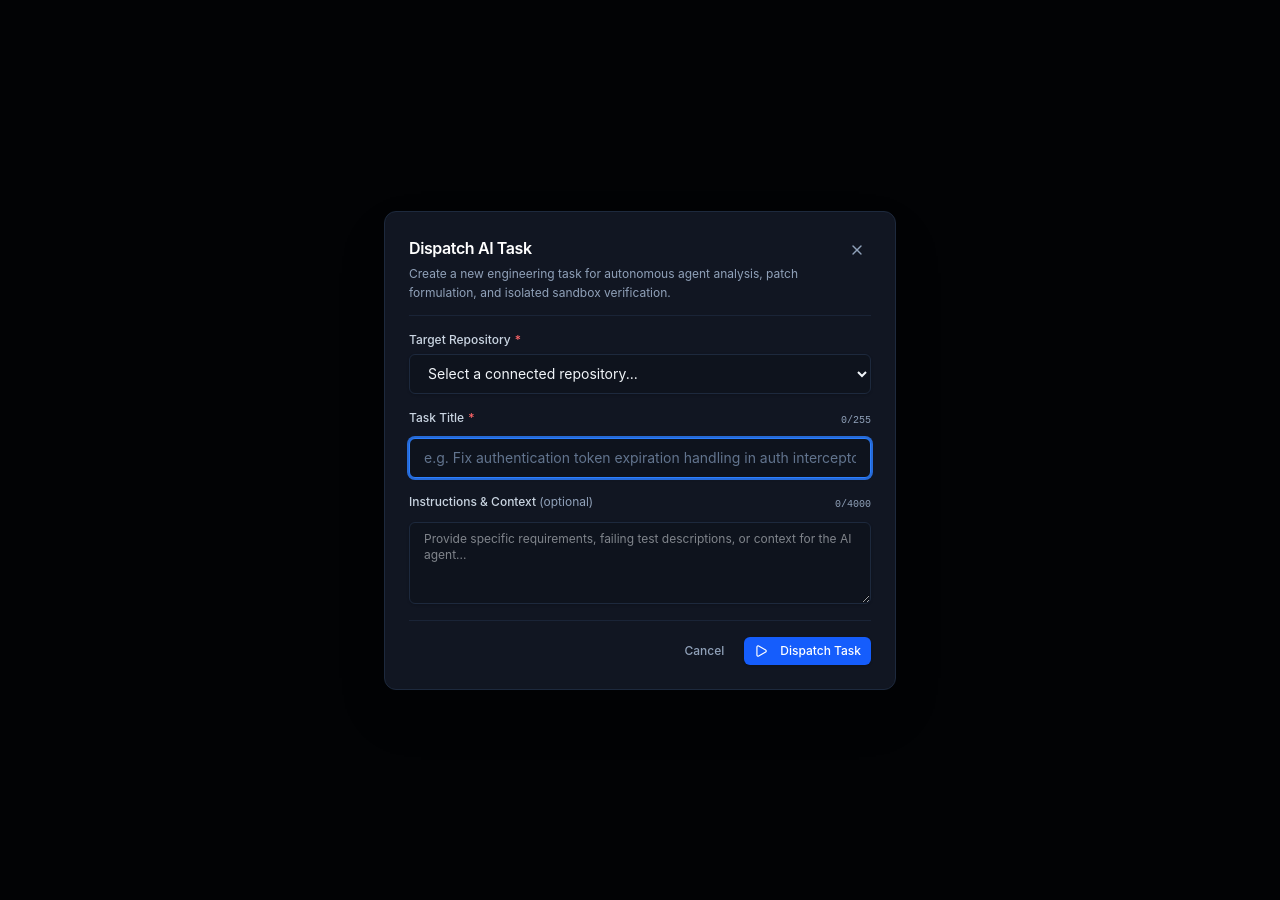
Scenario: CreateTaskDialog › handles 403 permission denied from backend
Select "org/repo-one (main)" in the dropdown labelled "Target Repository*". click: (640, 374)
box: [409, 354, 871, 394]
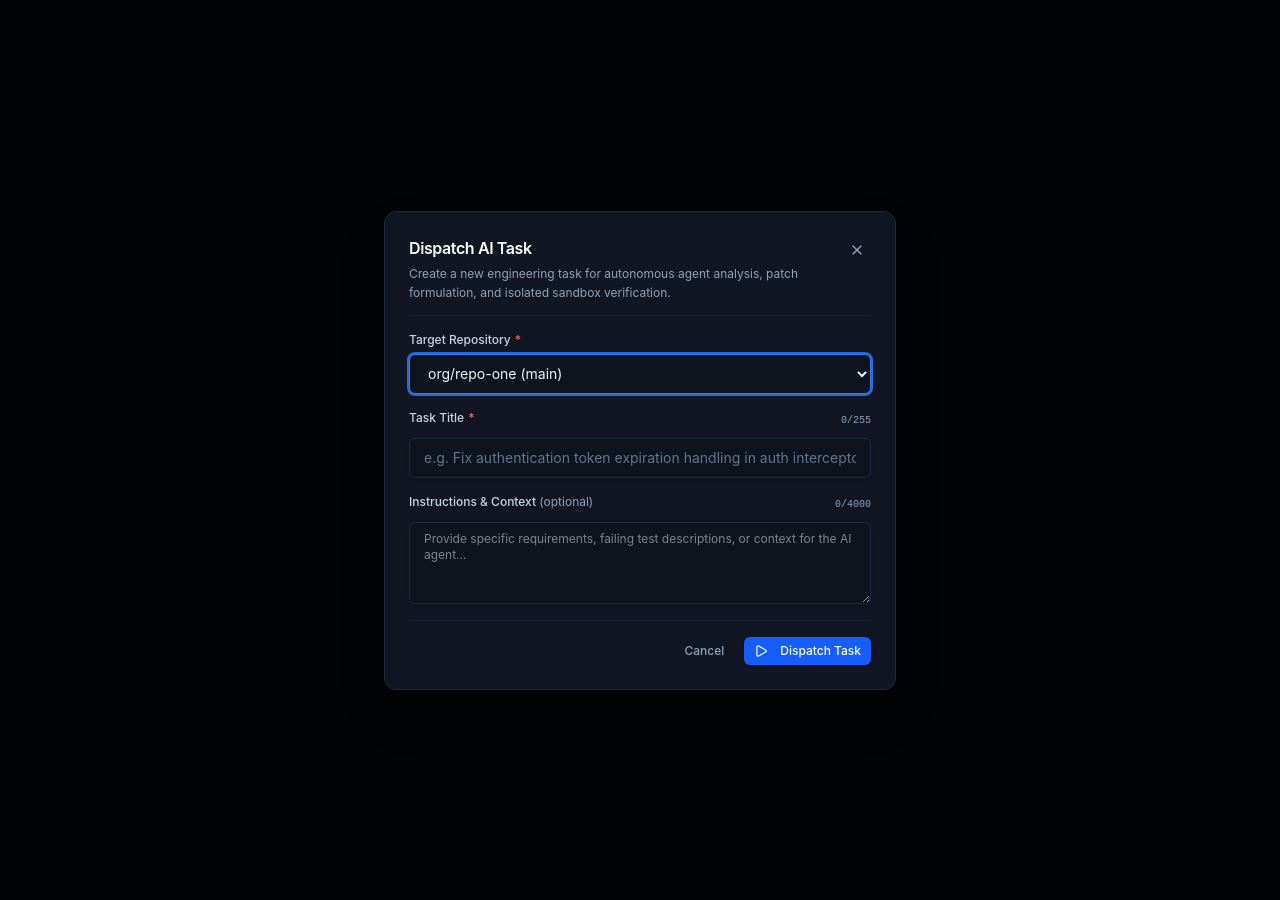
Type "Valid Title" into the field with placeholder "Fix authentication token". click: (640, 458)
box: [409, 438, 871, 478]
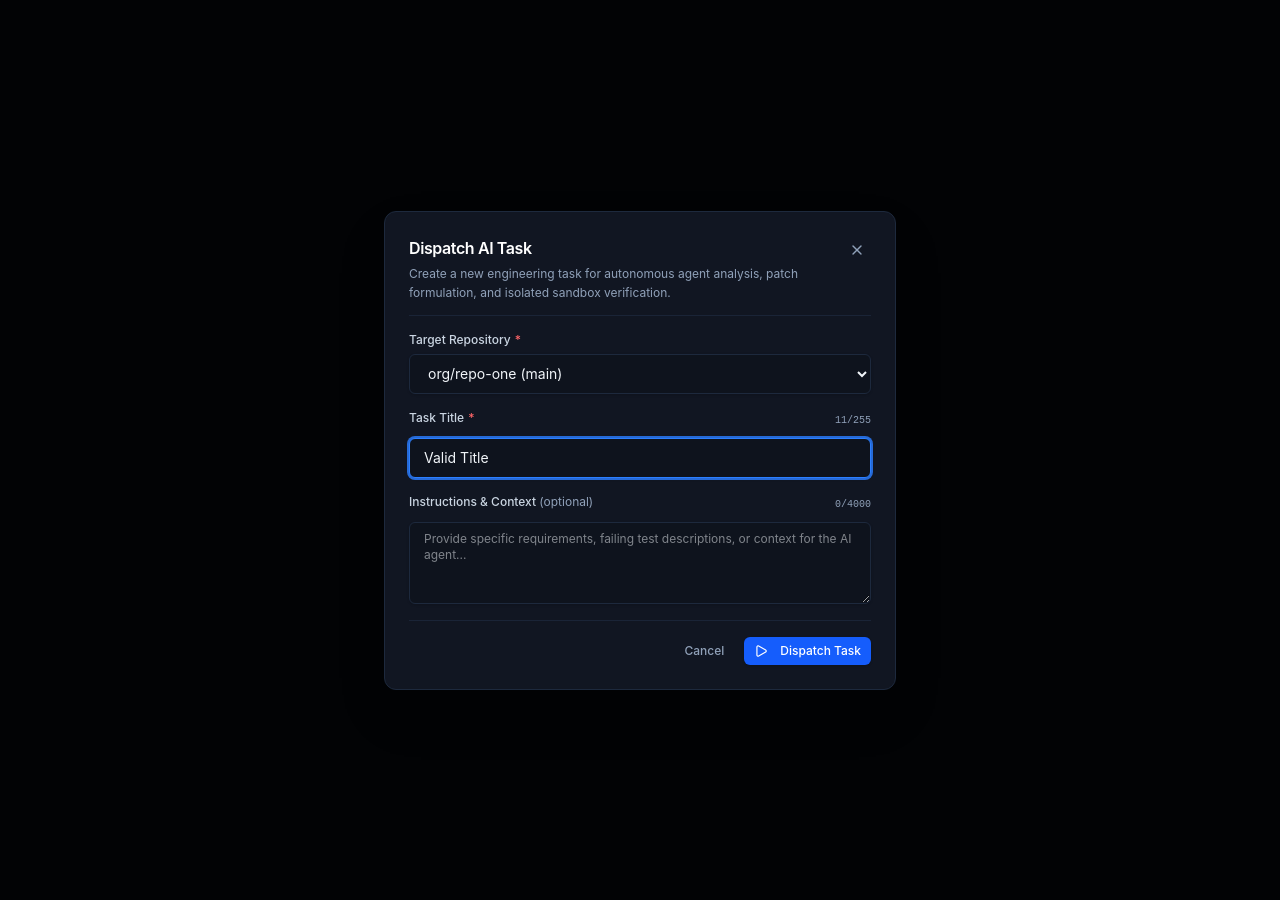
Click the button "Dispatch Task". click: (808, 650)
box: [744, 636, 871, 664]
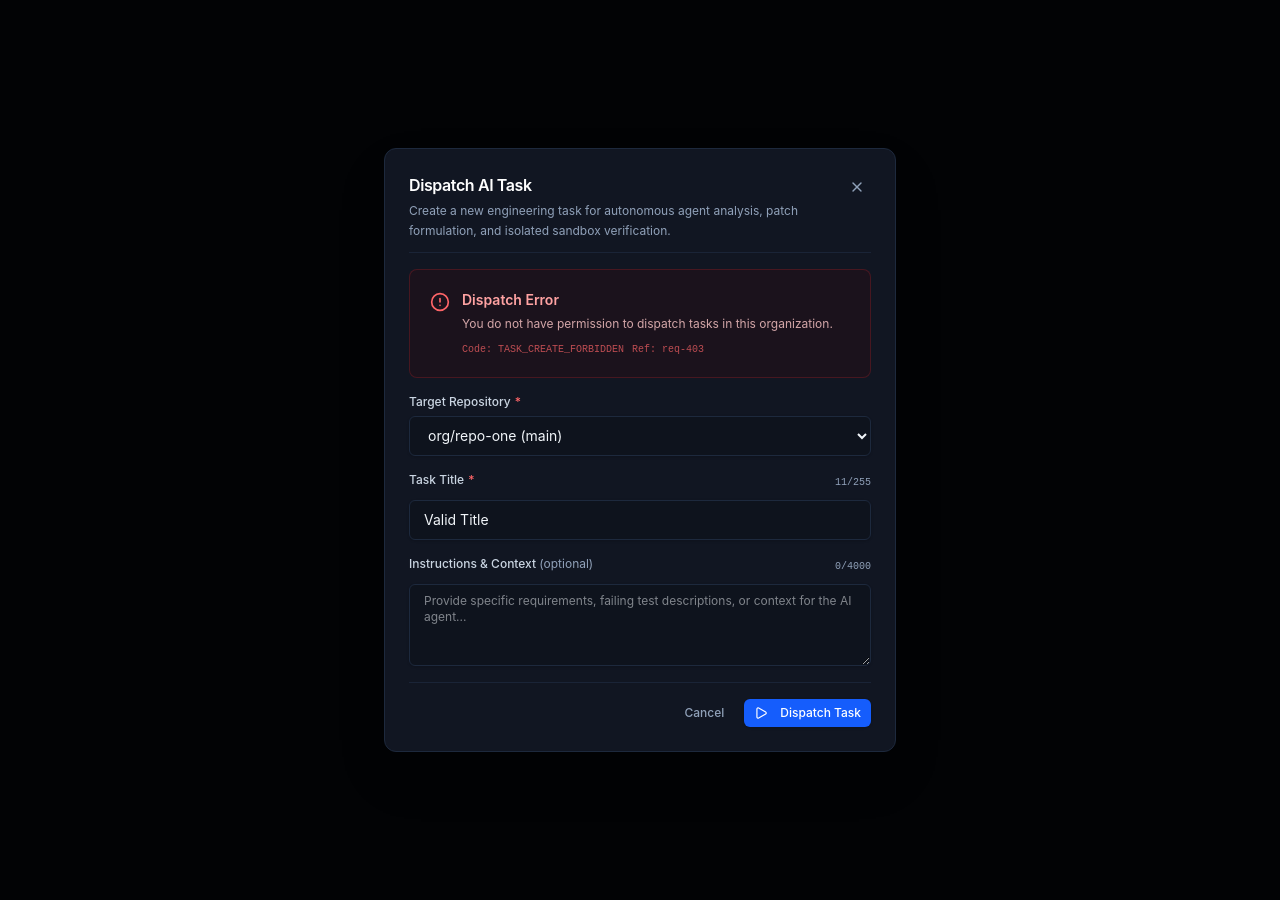
Expected: the text "You do not have permission to dispatch tasks in this organization." is shown, [462, 314, 850, 334]
